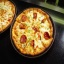pepperoni: (42, 31, 53, 40), (19, 35, 28, 44), (20, 23, 27, 30), (32, 13, 39, 20), (21, 14, 27, 22), (30, 40, 35, 47)
pizza: (10, 10, 57, 54)
